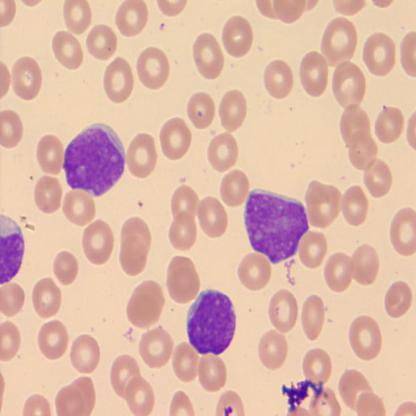Blast: (243, 186, 311, 264), (62, 120, 127, 198), (184, 287, 238, 356)
